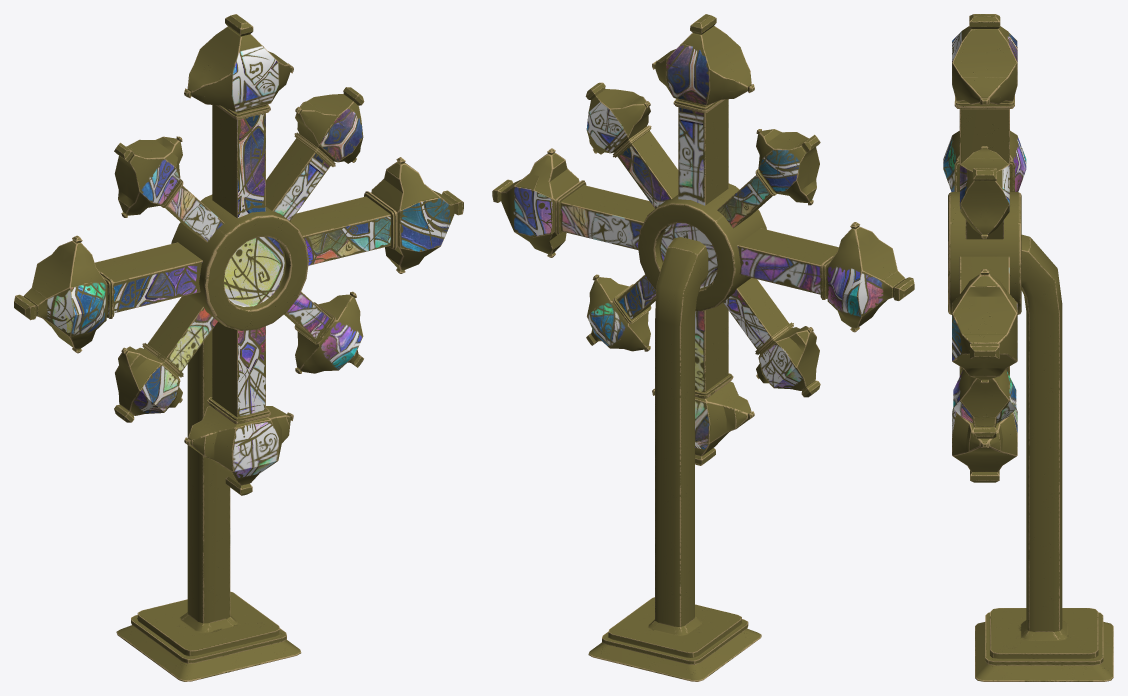
File: rotatingLeverWholePre.glb
3 views of the same model, side by side, from view 1: azimuth 30°, elevation 25°; view 2: azimuth 150°, elevation 25°; view 3: azimuth 270°, elevation 25° (orthographic). The views are drawn at different scales.
Visible parts, largest first — view 1: Mesh_3, Mesh_0, Mesh_1, Mesh_2; view 2: Mesh_3, Mesh_1, Mesh_0, Mesh_2; view 3: Mesh_1, Mesh_3, Mesh_0, Mesh_2.
Boxes of the visible parts, x1=… form: Mesh_3: x1=14, y1=14, x2=463, y2=495; Mesh_0: x1=114, y1=87, x2=364, y2=422; Mesh_1: x1=116, y1=330, x2=301, y2=681; Mesh_2: x1=171, y1=194, x2=308, y2=330; Mesh_3: x1=492, y1=14, x2=914, y2=465; Mesh_1: x1=588, y1=237, x2=761, y2=681; Mesh_0: x1=585, y1=82, x2=820, y2=397; Mesh_2: x1=637, y1=183, x2=766, y2=311; Mesh_1: x1=975, y1=234, x2=1113, y2=681; Mesh_3: x1=943, y1=14, x2=1026, y2=482; Mesh_0: x1=953, y1=146, x2=1016, y2=438; Mesh_2: x1=948, y1=192, x2=1021, y2=314.
Size of the model in its own units: 0.6988 by 0.9832 by 0.238.
2 materials, 2 textured.
